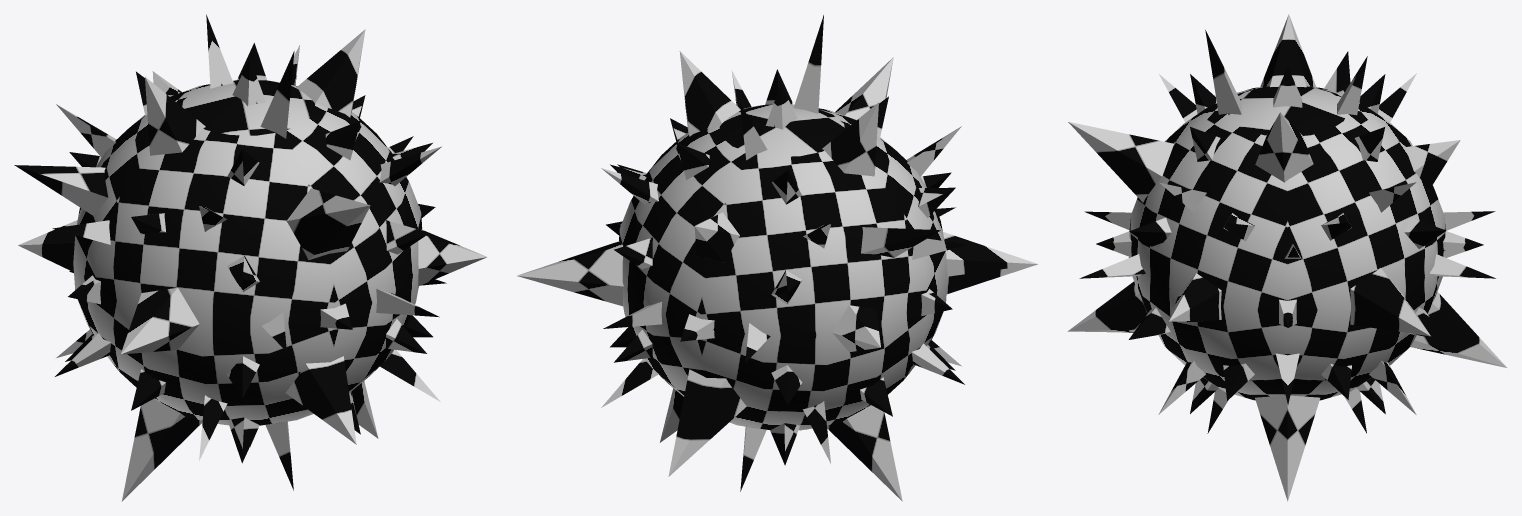
The model's file is spaceball_winter.obj.
3 views of the same model, side by side, from view 1: azimuth 30°, elevation 25°; view 2: azimuth 150°, elevation 25°; view 3: azimuth 270°, elevation 25° (orthographic). The views are drawn at different scales.
Parts seen in each view (by area): view 1: spaceball_winter; view 2: spaceball_winter; view 3: spaceball_winter.
Part boxes in pixels (x1=…): spaceball_winter: x1=14, y1=14, x2=487, y2=501; spaceball_winter: x1=517, y1=15, x2=1038, y2=501; spaceball_winter: x1=1067, y1=14, x2=1506, y2=501.
Size of the model in its own units: 141 by 151 by 145.
1 material, 1 textured.
